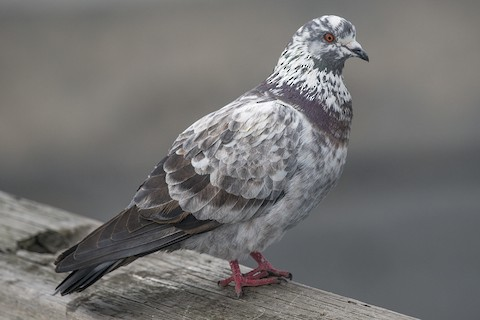pigeon: (51, 11, 375, 304)
